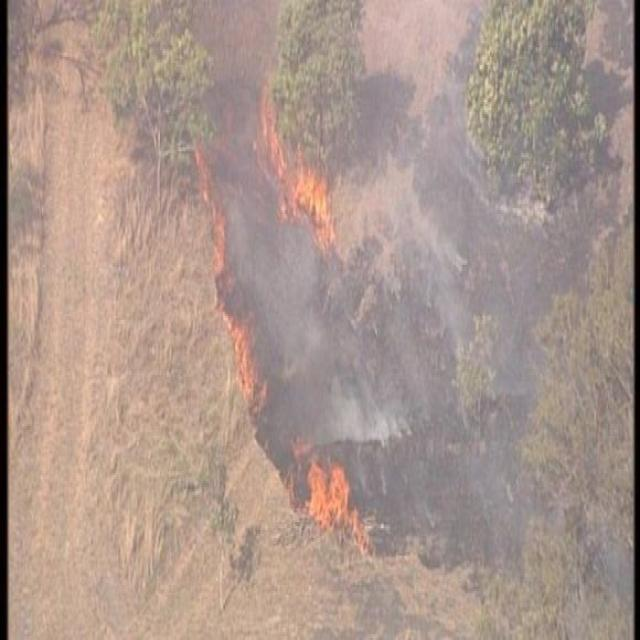Fire: (180, 150, 280, 422), (306, 442, 394, 556), (252, 93, 296, 210), (286, 165, 336, 254), (308, 464, 348, 530)
Smoke: (342, 38, 502, 302), (305, 268, 450, 426)
